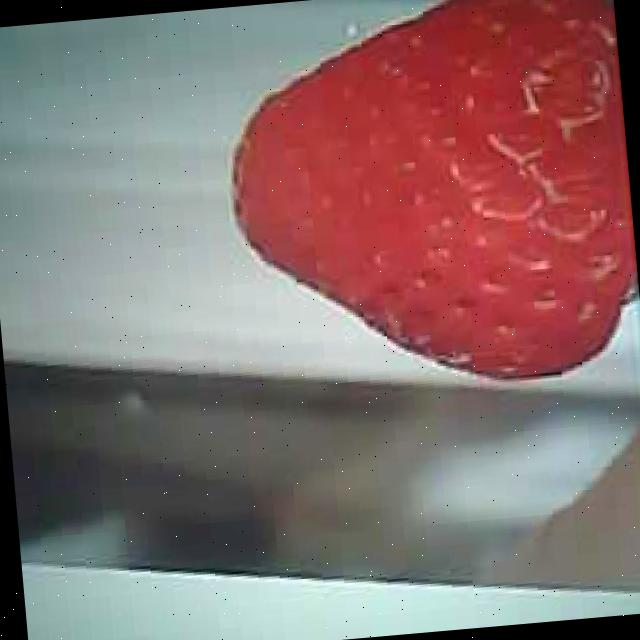strawberry: (215, 0, 640, 404)
